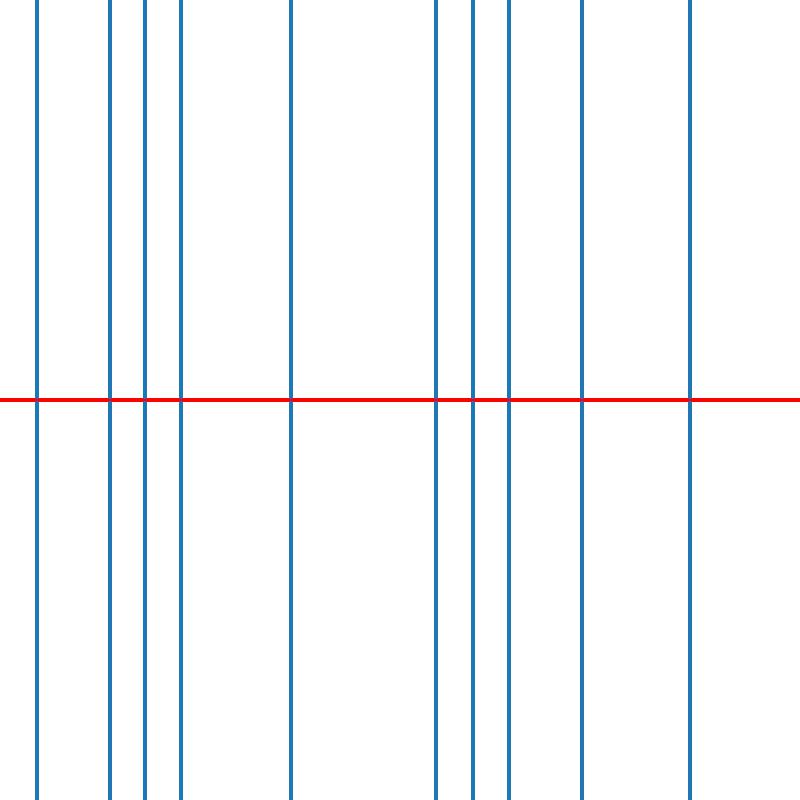root: (141, 396, 149, 404), (32, 396, 40, 404), (432, 396, 440, 404), (687, 396, 694, 404), (469, 396, 476, 404), (105, 396, 112, 404), (505, 396, 512, 404), (578, 396, 585, 404), (287, 396, 294, 404), (178, 396, 185, 404)
